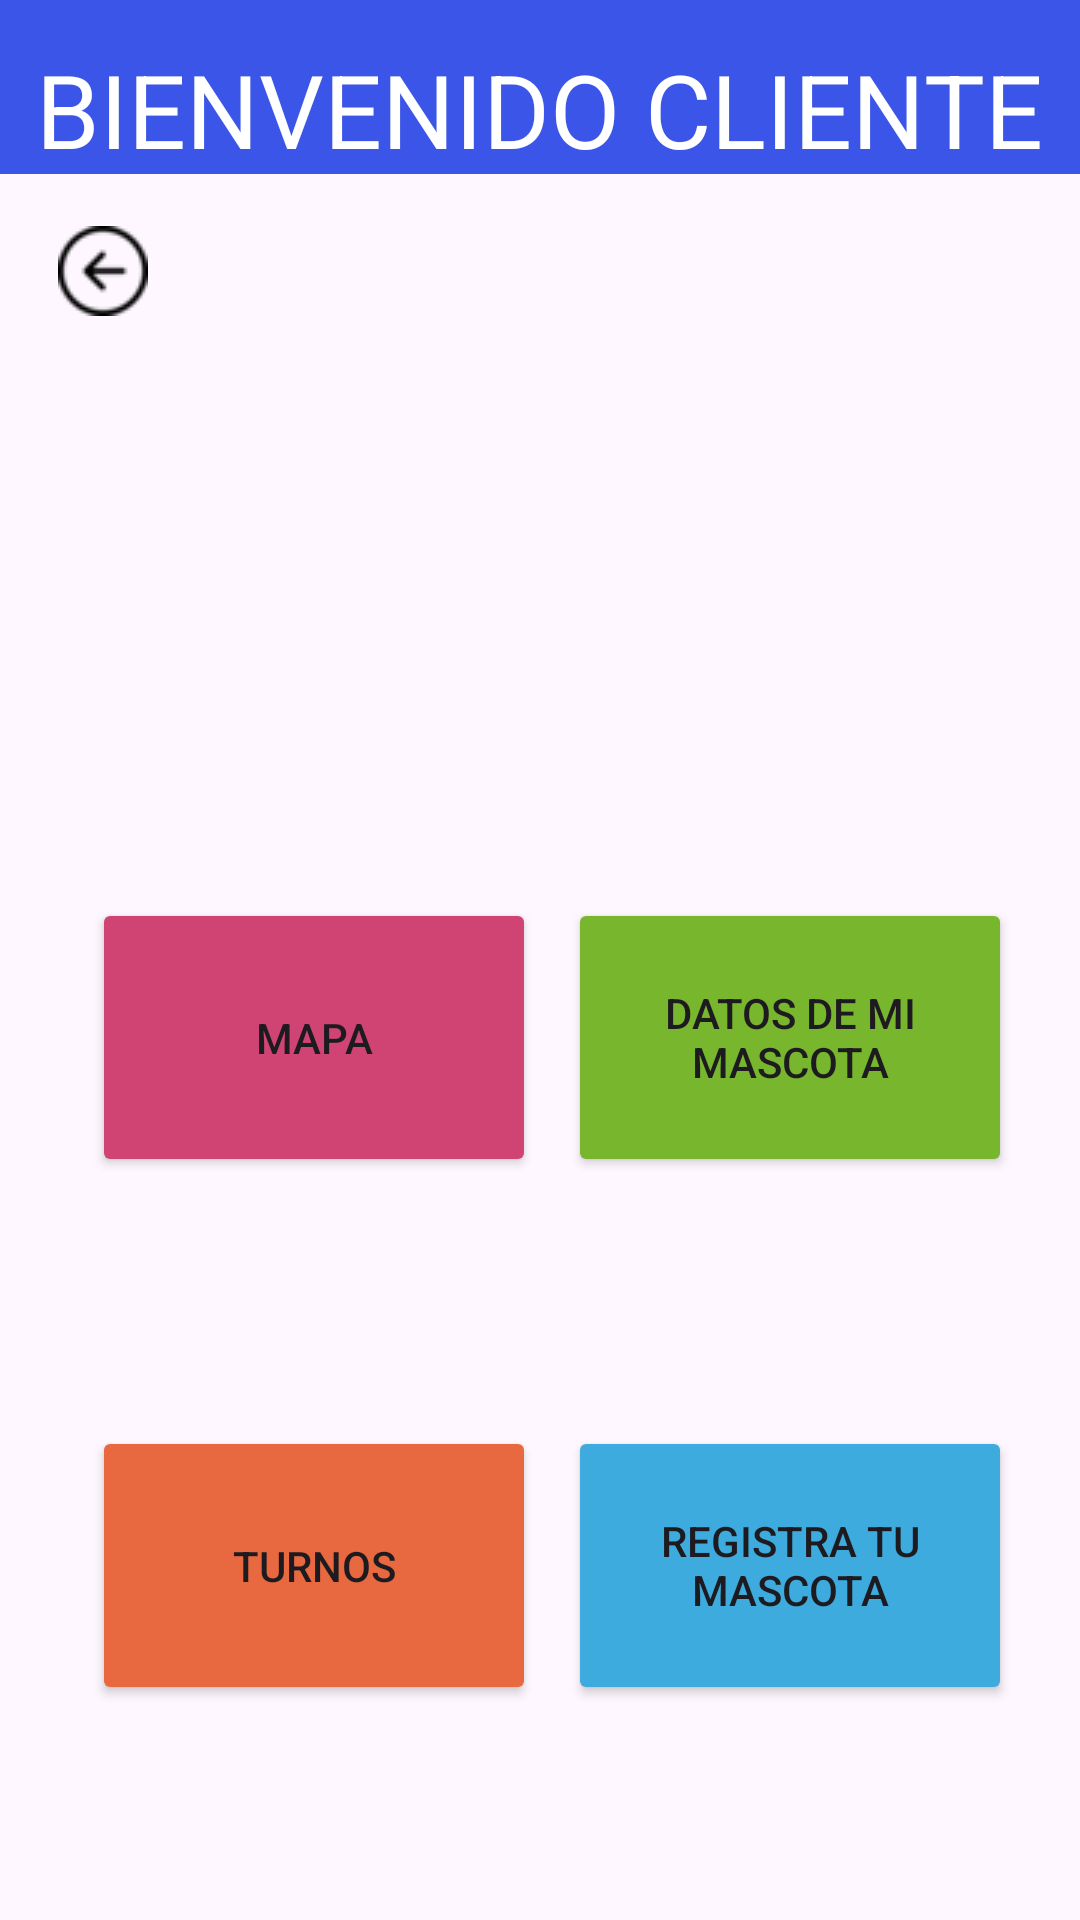

Icons on this 1080px×1920px Android screen, each with its box as (x1, y1, x2, y2):
atras: (58, 226, 148, 316)
